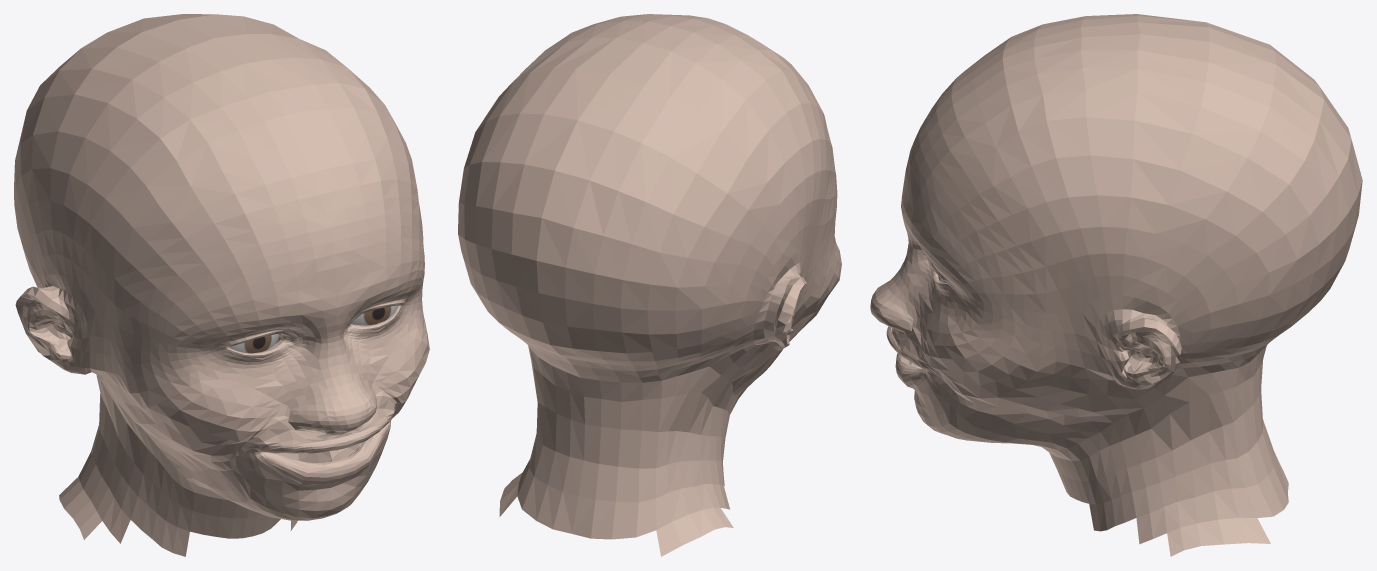
Rendered from karma_face_MH_smile_AA.glb.
The picture shows the model from 3 angles, left to right: view 1: azimuth 30°, elevation 25°; view 2: azimuth 150°, elevation 25°; view 3: azimuth 270°, elevation 25°; orthographic projection. The views are drawn at different scales.
Parts seen in each view (by area): view 1: head; view 2: head; view 3: head.
Boxes of the visible parts, x1=… form: head: x1=14, y1=14, x2=429, y2=556; head: x1=458, y1=14, x2=841, y2=556; head: x1=870, y1=14, x2=1362, y2=556.
Bounding box in the file's own units: 3.03 × 3.91 × 3.7.
